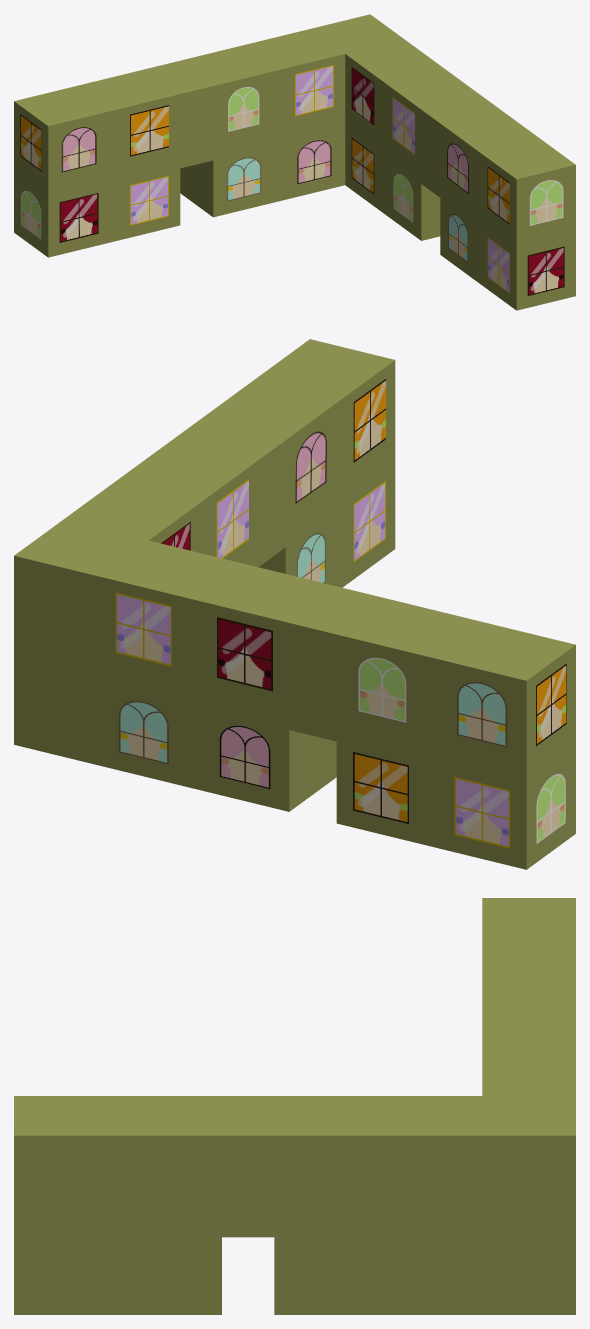
The model's file is House.fbx.
The picture shows the model from 3 angles, top to bottom: view 1: azimuth 30°, elevation 25°; view 2: azimuth 150°, elevation 25°; view 3: azimuth 270°, elevation 25°; orthographic projection. The views are drawn at different scales.
Visible parts, largest first — view 1: Cube; view 2: Cube; view 3: Cube.
Part boxes in pixels (left/top/right/bottom): Cube: left=14, top=14, right=575, bottom=310; Cube: left=14, top=339, right=575, bottom=869; Cube: left=14, top=898, right=575, bottom=1314.
Size of the model in its own units: 6000 by 2114 by 6000.
